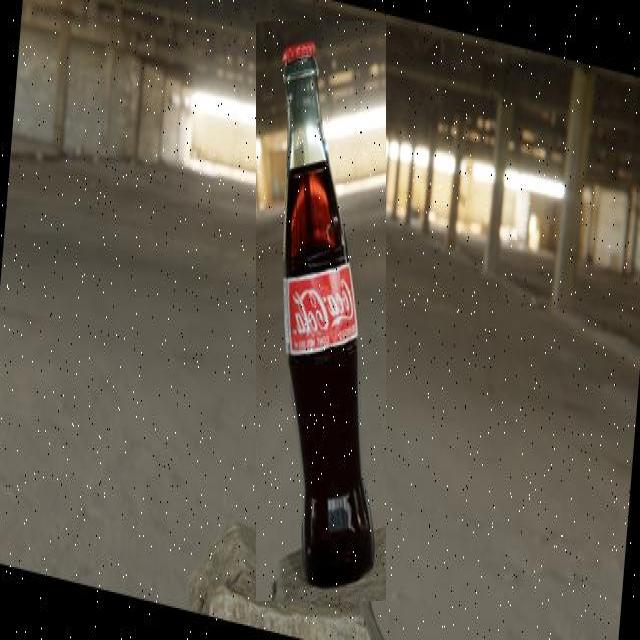coca-cola: (256, 21, 386, 601)
